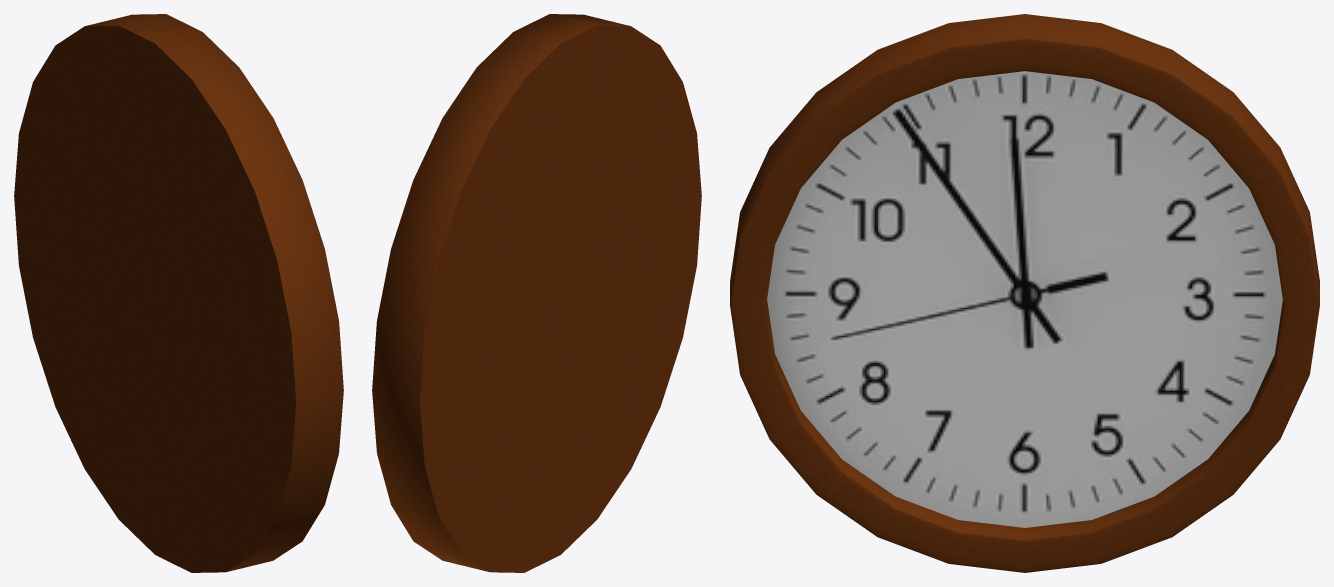
Rendered from clock.glb.
3 renders of one model, left to right at view 1: azimuth 30°, elevation 25°; view 2: azimuth 150°, elevation 25°; view 3: azimuth 270°, elevation 25°, orthographic. The views are drawn at different scales.
Parts seen in each view (by area): view 1: clock; view 2: clock; view 3: clock.
Part boxes in pixels (box(x1,y1,x2,y2)): clock: box(14, 14, 343, 572); clock: box(372, 14, 701, 572); clock: box(730, 14, 1319, 572).
Size of the model in its own units: 0.02 by 0.2 by 0.2.
Materials: 2 (2 with a texture image).
